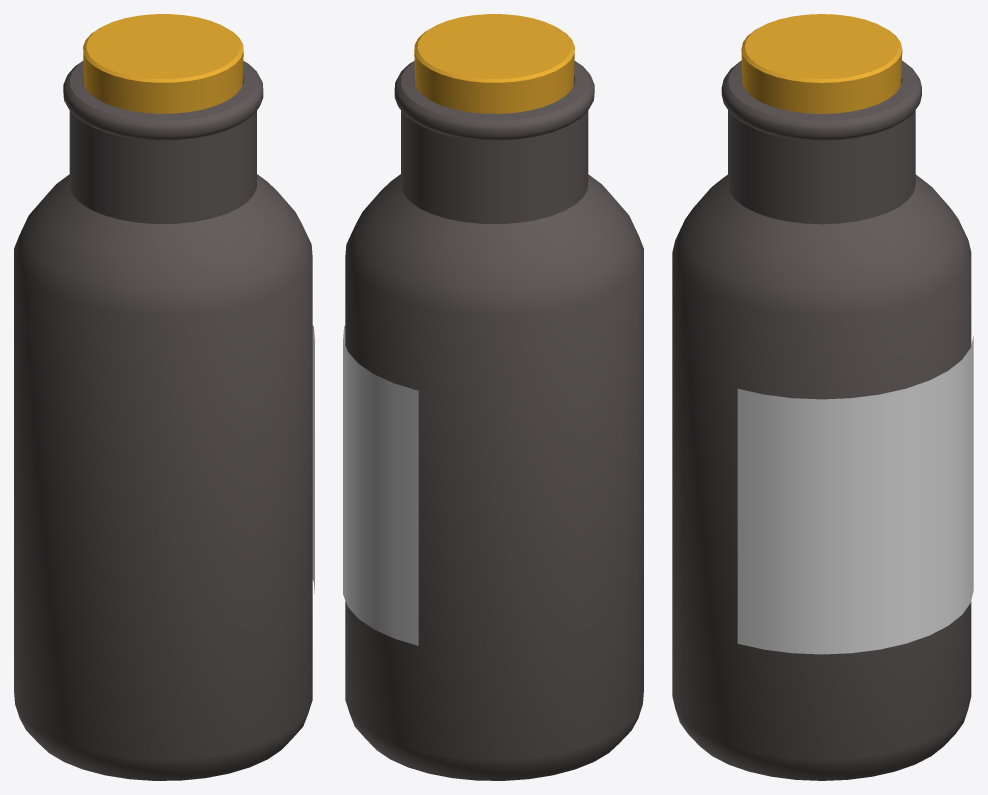
The model's file is flask_small_p.fbx.
The picture shows the model from 3 angles, left to right: view 1: azimuth 30°, elevation 25°; view 2: azimuth 150°, elevation 25°; view 3: azimuth 270°, elevation 25°; orthographic projection.
Parts seen in each view (by area): view 1: flask_small; view 2: flask_small; view 3: flask_small.
Boxes of the visible parts, x1=… form: flask_small: x1=14, y1=14, x2=314, y2=780; flask_small: x1=343, y1=14, x2=643, y2=780; flask_small: x1=672, y1=14, x2=973, y2=780.
Bounding box in the file's own units: 13.51 × 33.56 × 13.51.
